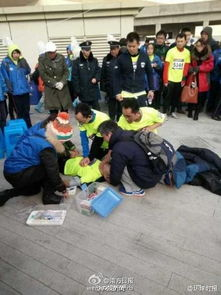10+: (1, 25, 220, 200)
down: (59, 142, 114, 181)
